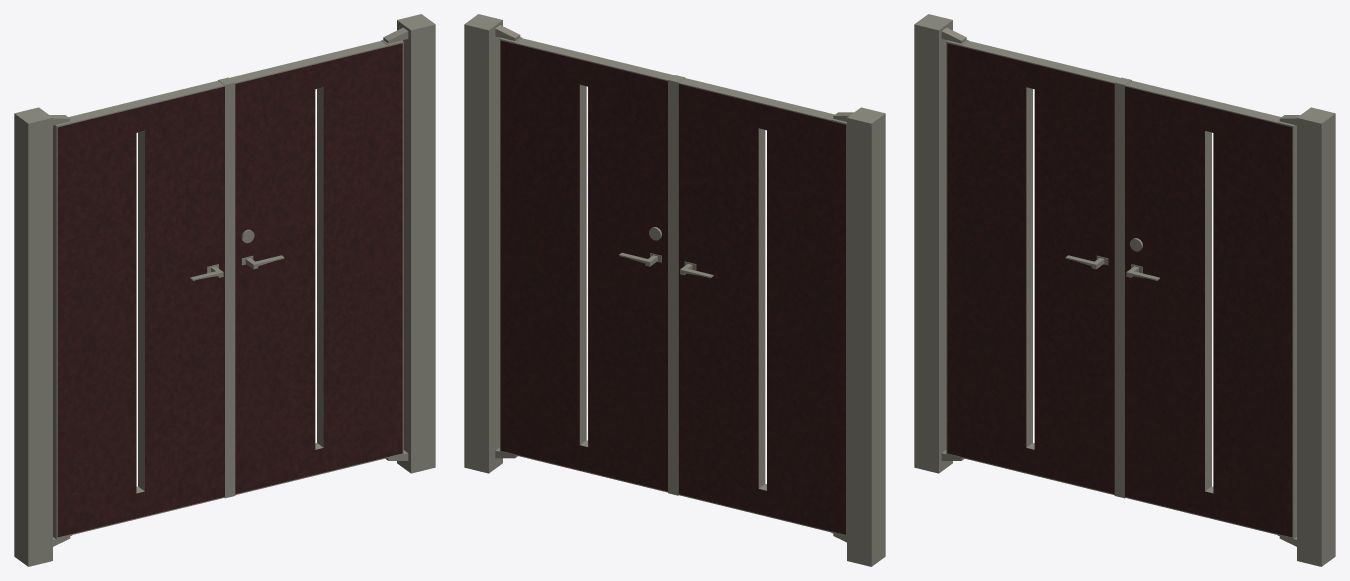
File: 07-07-16_rustycopper.fbx
3 renders of one model, left to right at view 1: azimuth 30°, elevation 25°; view 2: azimuth 150°, elevation 25°; view 3: azimuth 330°, elevation 25°, orthographic.
Parts seen in each view (by area): view 1: 07-07-16rustycopper; view 2: 07-07-16rustycopper; view 3: 07-07-16rustycopper.
Part boxes in pixels (left/top/right/bottom): 07-07-16rustycopper: left=14, top=14, right=435, bottom=566; 07-07-16rustycopper: left=464, top=14, right=885, bottom=566; 07-07-16rustycopper: left=914, top=14, right=1335, bottom=566.
Size of the model in its own units: 165 by 172 by 16.7.
2 materials, 2 textured.
